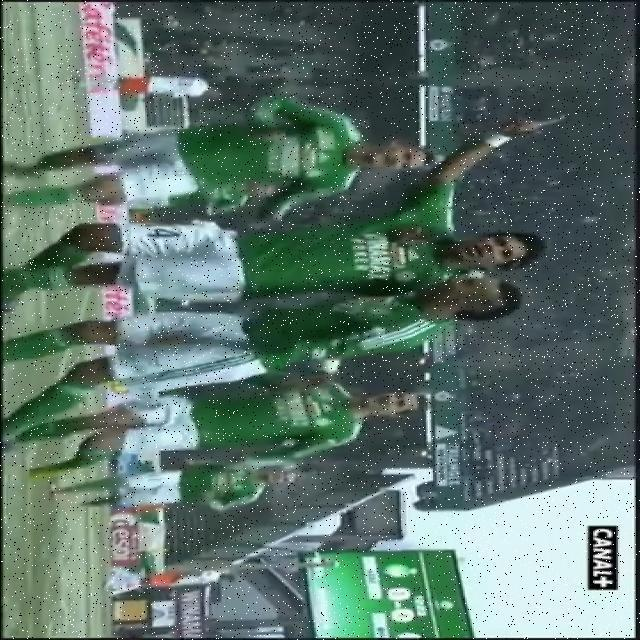player: (0, 271, 558, 427), (0, 97, 510, 247), (0, 183, 556, 293), (5, 373, 454, 479), (61, 455, 360, 549), (79, 48, 261, 116), (81, 569, 253, 604)
